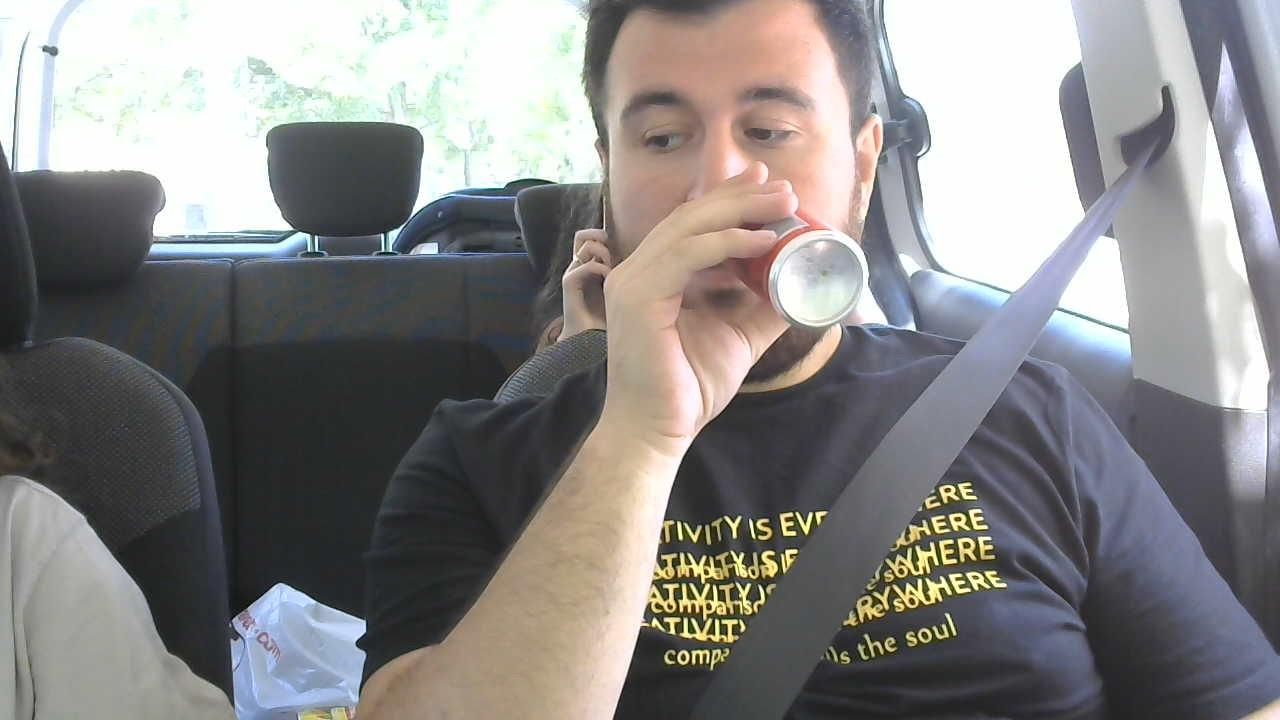Drinking: (593, 1, 883, 360)
